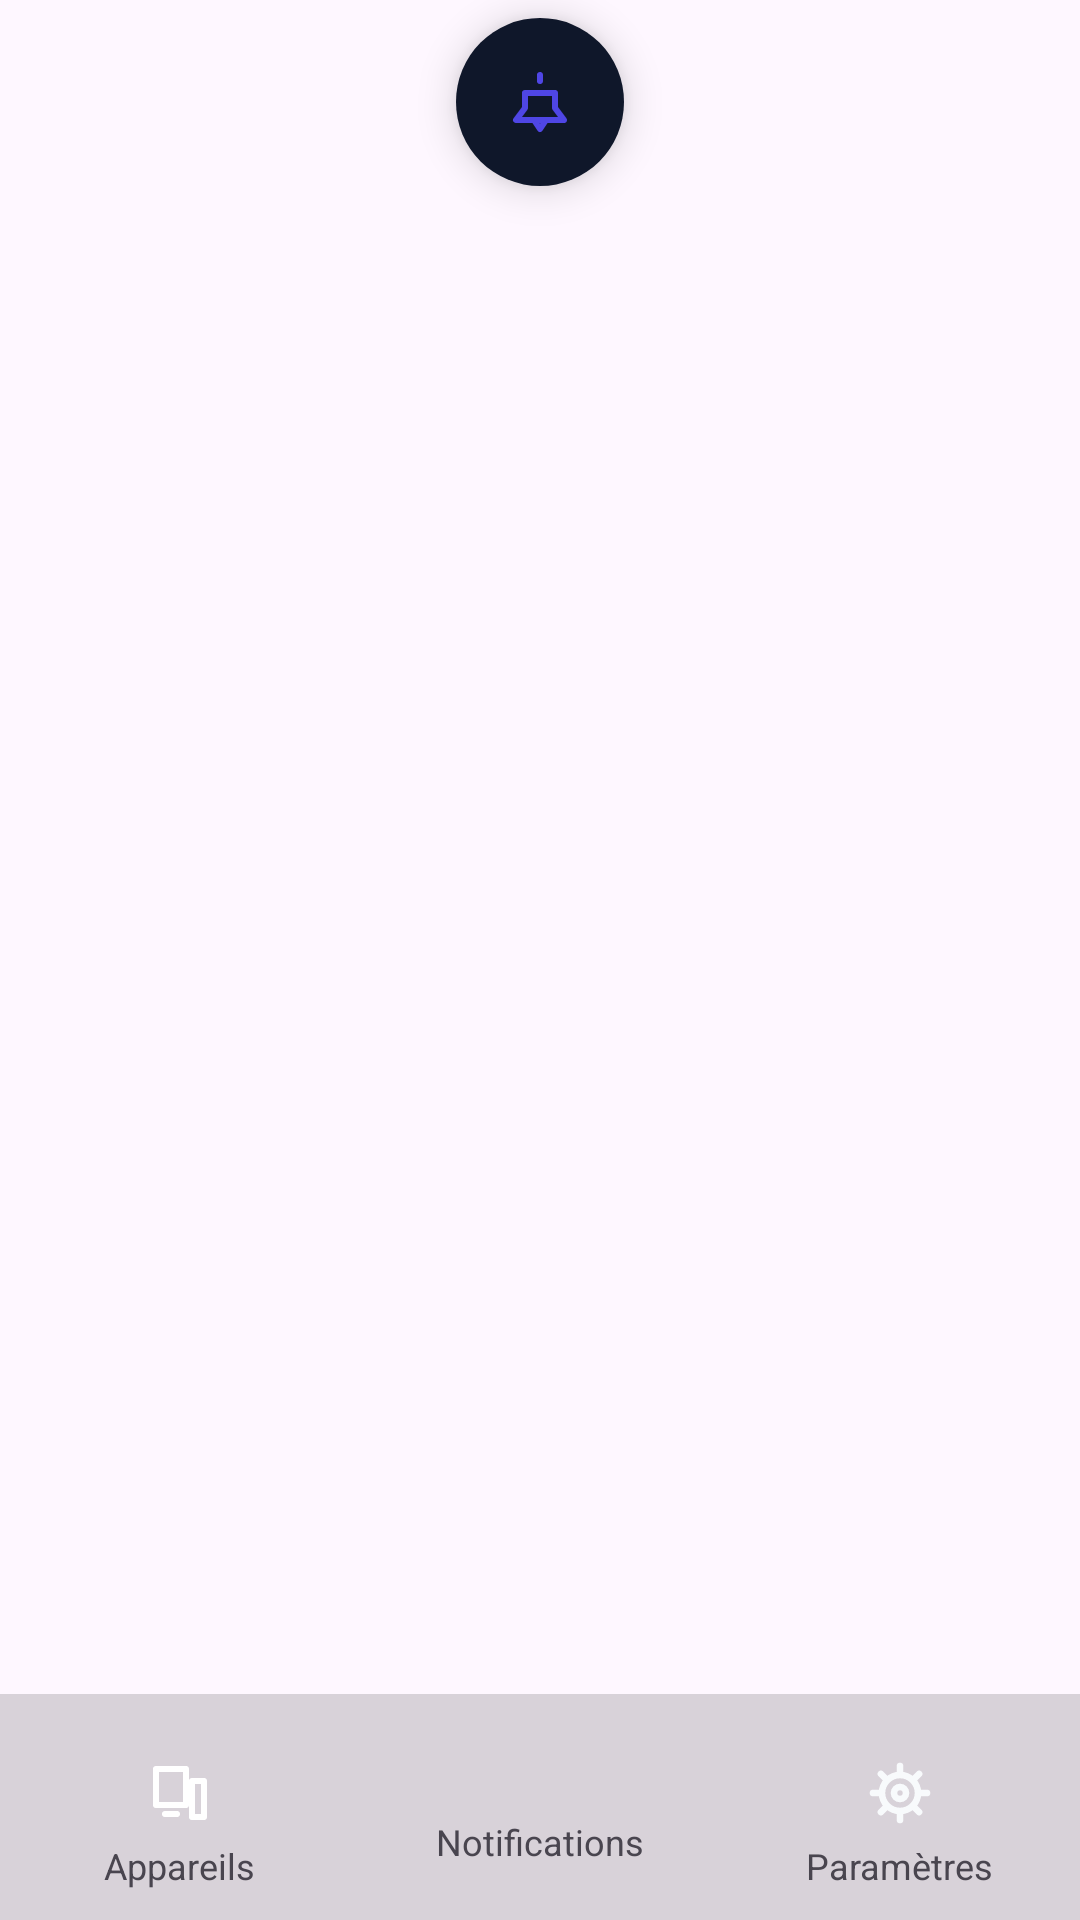

Icons on this 1080 × 1920 Android screen, each with its box as (left=x1, top=y1, right=x2, bottom=y2):
Notifications: (left=513, top=72, right=567, bottom=132)
